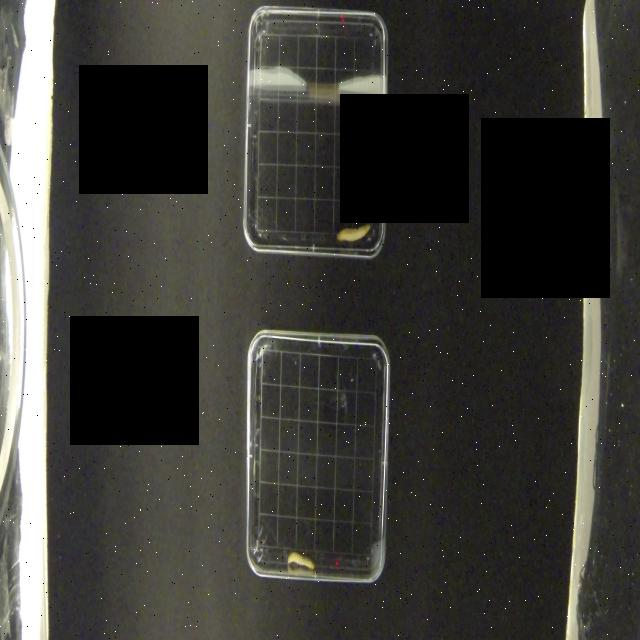larva: (336, 221, 372, 244), (287, 548, 315, 572)
